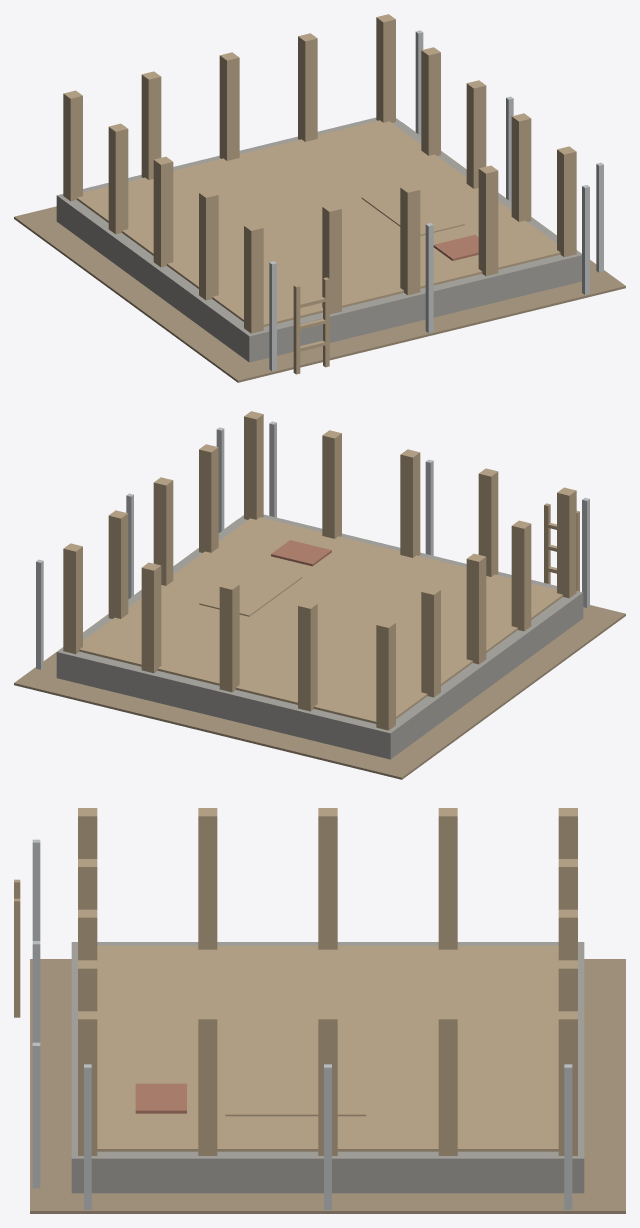
The model's file is orchard_site_3.glb.
3 views of the same model, one above another, from view 1: azimuth 30°, elevation 25°; view 2: azimuth 150°, elevation 25°; view 3: azimuth 270°, elevation 25° (orthographic). The views are drawn at different scales.
Visible parts, largest first — view 1: body; view 2: body; view 3: body.
Part boxes in pixels (left/top/right/bottom): body: left=14, top=14, right=625, bottom=382; body: left=14, top=411, right=625, bottom=779; body: left=14, top=808, right=625, bottom=1213.
Size of the model in its own units: 1.86 by 0.6 by 1.91.
